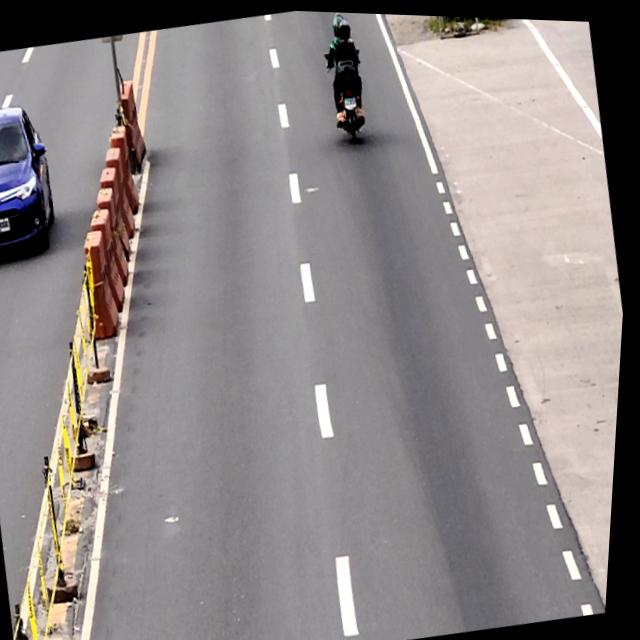License-Plate: (343, 93, 359, 107)
Motorcycle: (319, 37, 376, 144)
